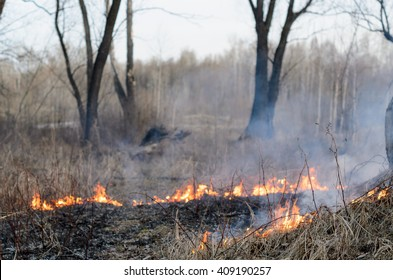fire: (194, 163, 392, 258), (130, 172, 351, 206), (23, 182, 132, 215)
